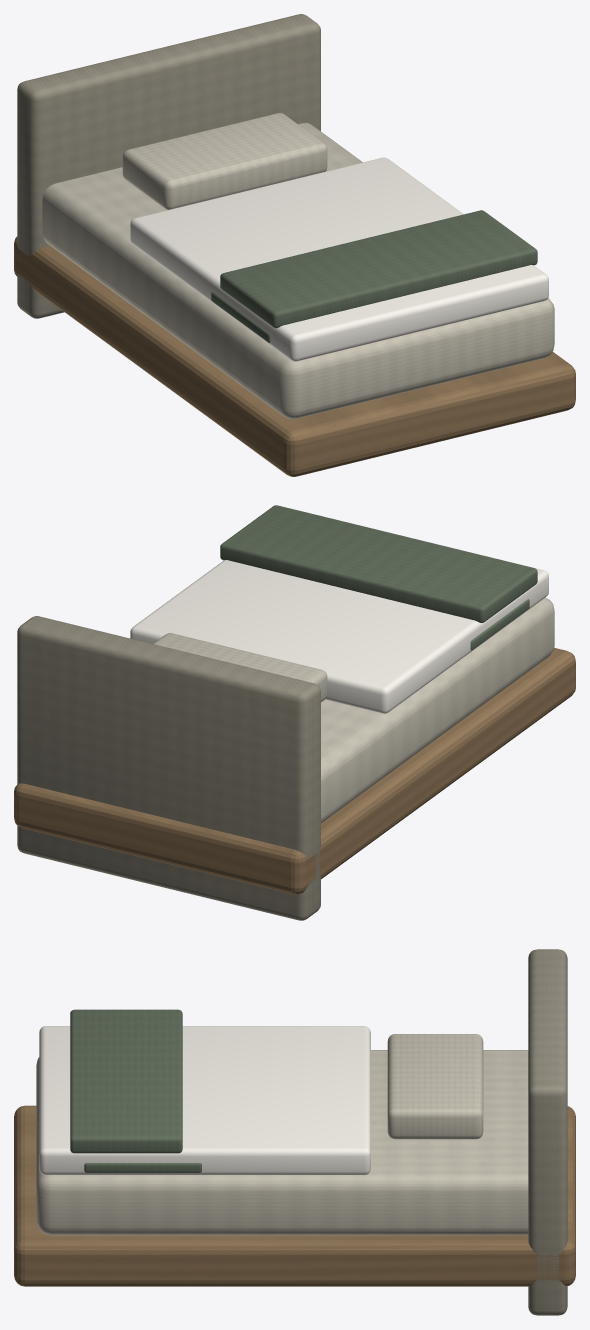
File: single-bed.glb
The picture shows the model from 3 angles, top to bottom: view 1: azimuth 30°, elevation 25°; view 2: azimuth 150°, elevation 25°; view 3: azimuth 270°, elevation 25°; orthographic projection.
Parts seen in each view (by area): view 1: ACCENT mattress, CANONICAL headboard, ACCENT soft duvet, CANONICAL bed frame, ACCENT folded sage blanket, ACCENT pillow, ACCENT runner; view 2: CANONICAL headboard, CANONICAL bed frame, ACCENT soft duvet, ACCENT folded sage blanket, ACCENT mattress, ACCENT pillow, ACCENT runner; view 3: ACCENT mattress, ACCENT soft duvet, CANONICAL bed frame, ACCENT folded sage blanket, CANONICAL headboard, ACCENT pillow, ACCENT runner.
Boxes of the visible parts, left/top/right/bottom form: ACCENT mattress: left=42, top=123, right=554, bottom=418; CANONICAL headboard: left=17, top=14, right=320, bottom=318; ACCENT soft duvet: left=130, top=157, right=548, bottom=361; CANONICAL bed frame: left=14, top=236, right=575, bottom=476; ACCENT folded sage blanket: left=220, top=210, right=537, bottom=328; ACCENT pillow: left=122, top=113, right=327, bottom=209; ACCENT runner: left=211, top=292, right=270, bottom=342; CANONICAL headboard: left=17, top=616, right=320, bottom=920; CANONICAL bed frame: left=14, top=648, right=575, bottom=894; ACCENT soft duvet: left=130, top=510, right=548, bottom=713; ACCENT folded sage blanket: left=220, top=505, right=537, bottom=622; ACCENT mattress: left=321, top=597, right=554, bottom=823; ACCENT pillow: left=153, top=633, right=327, bottom=701; ACCENT runner: left=470, top=599, right=529, bottom=650; ACCENT mattress: left=36, top=1050, right=528, bottom=1235; ACCENT soft duvet: left=39, top=1026, right=370, bottom=1175; CANONICAL bed frame: left=14, top=1105, right=575, bottom=1286; ACCENT folded sage blanket: left=70, top=1009, right=182, bottom=1153; CANONICAL headboard: left=528, top=949, right=567, bottom=1315; ACCENT pillow: left=387, top=1034, right=483, bottom=1139; ACCENT runner: left=84, top=1163, right=201, bottom=1172.
Size of the model in its own units: 1.2 by 0.9 by 2.
Materials: 5 (4 with a texture image).
